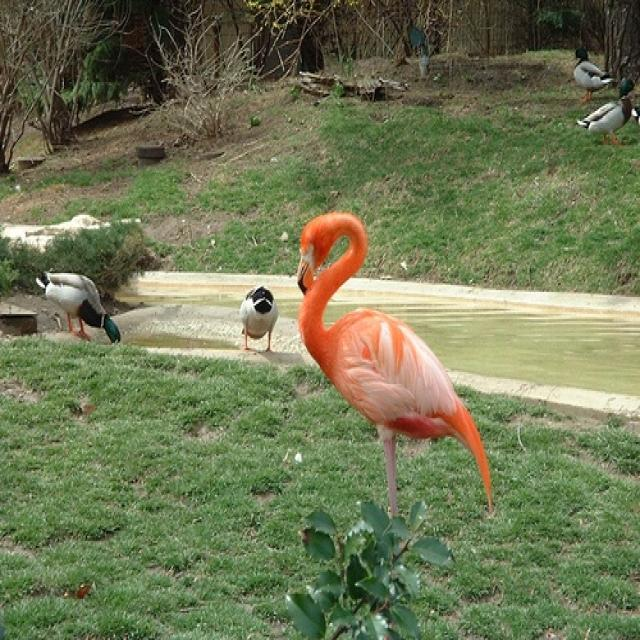bird: (293, 207, 495, 522), (32, 261, 123, 350), (574, 75, 638, 147), (238, 284, 280, 358), (571, 40, 619, 102)
